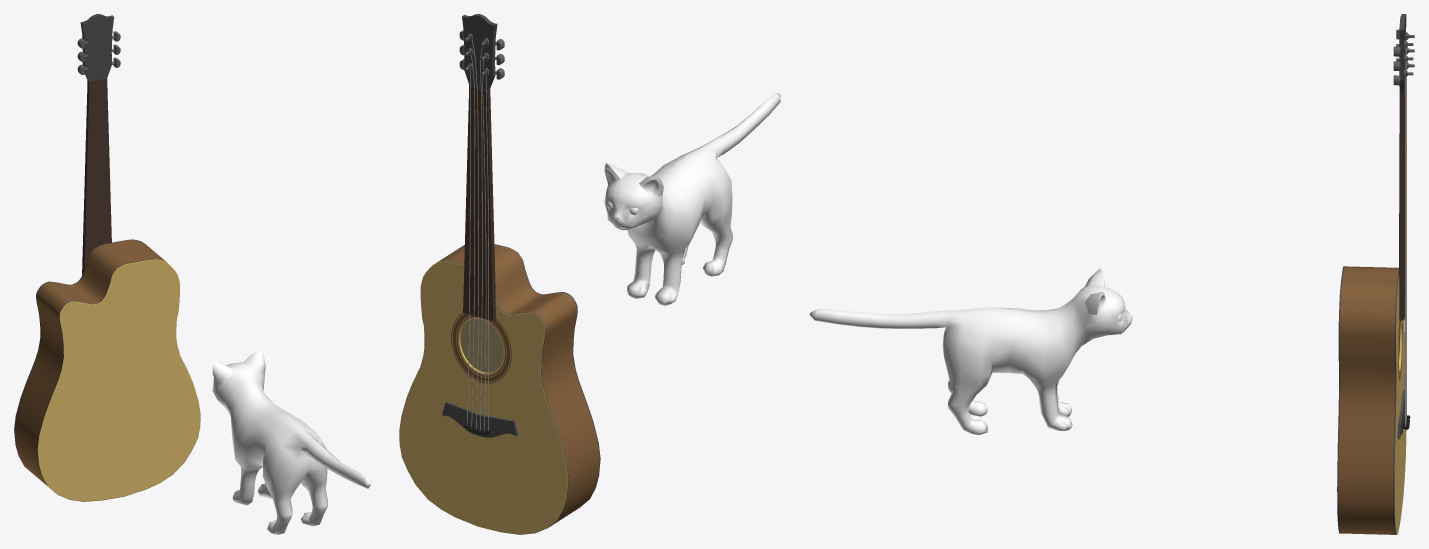
File: dager.gltf
3 views of the same model, side by side, from view 1: azimuth 30°, elevation 25°; view 2: azimuth 150°, elevation 25°; view 3: azimuth 270°, elevation 25° (orthographic). The views are drawn at different scales.
Parts seen in each view (by area): view 1: guitar_base, kitty_001, guitar_handle, guitar_adjust strings; view 2: guitar_base, kitty_001, guitar_handle, guitar_strings, guitar_cable fixing base; view 3: guitar_base, kitty_001, guitar_handle, guitar_strings.
Boxes of the visible parts, x1,y1,x2,y2 form: guitar_base: [14, 239, 200, 501]; kitty_001: [212, 351, 370, 534]; guitar_handle: [80, 14, 114, 275]; guitar_adjust strings: [77, 31, 120, 74]; guitar_base: [399, 244, 600, 534]; kitty_001: [604, 92, 780, 305]; guitar_handle: [462, 14, 497, 320]; guitar_strings: [467, 40, 488, 430]; guitar_cable fixing base: [442, 401, 518, 437]; guitar_base: [1337, 266, 1406, 534]; kitty_001: [809, 268, 1132, 435]; guitar_handle: [1399, 14, 1406, 320]; guitar_strings: [1404, 39, 1406, 426].
Size of the model in its own units: 0.2775 by 0.7632 by 0.8305.
